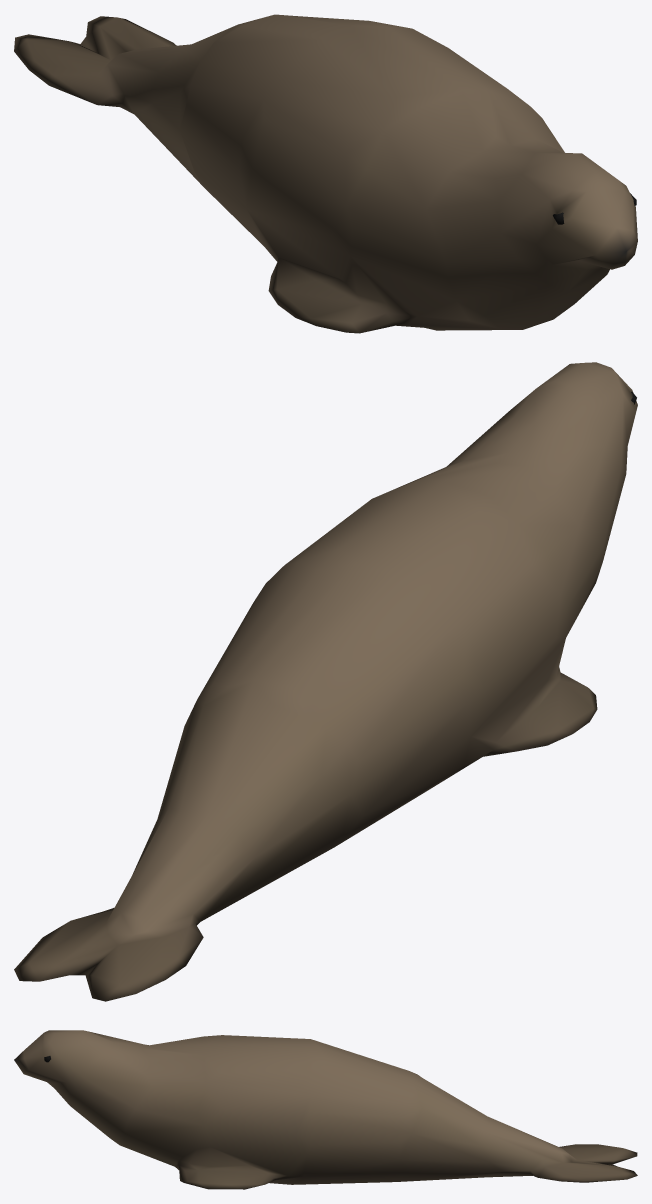
File: seeloewe.glb
The picture shows the model from 3 angles, top to bottom: view 1: azimuth 30°, elevation 25°; view 2: azimuth 150°, elevation 25°; view 3: azimuth 270°, elevation 25°; orthographic projection. The views are drawn at different scales.
Parts seen in each view (by area): view 1: lack; view 2: lack; view 3: lack.
Part boxes in pixels (x1,y1,x2,y2): lack: (14,14,637,333); lack: (14,362,637,1001); lack: (14,1030,637,1189).
Bounding box in the file's own units: 0.794 × 0.6603 × 2.68.
